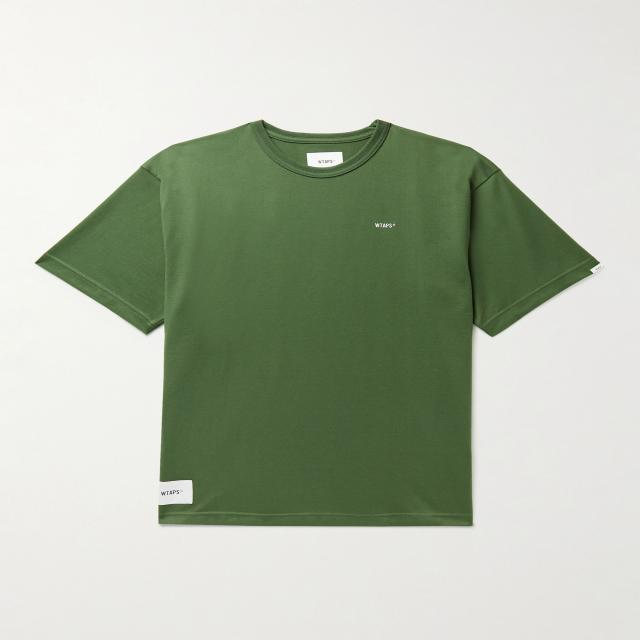tshirt: (35, 119, 600, 527)
